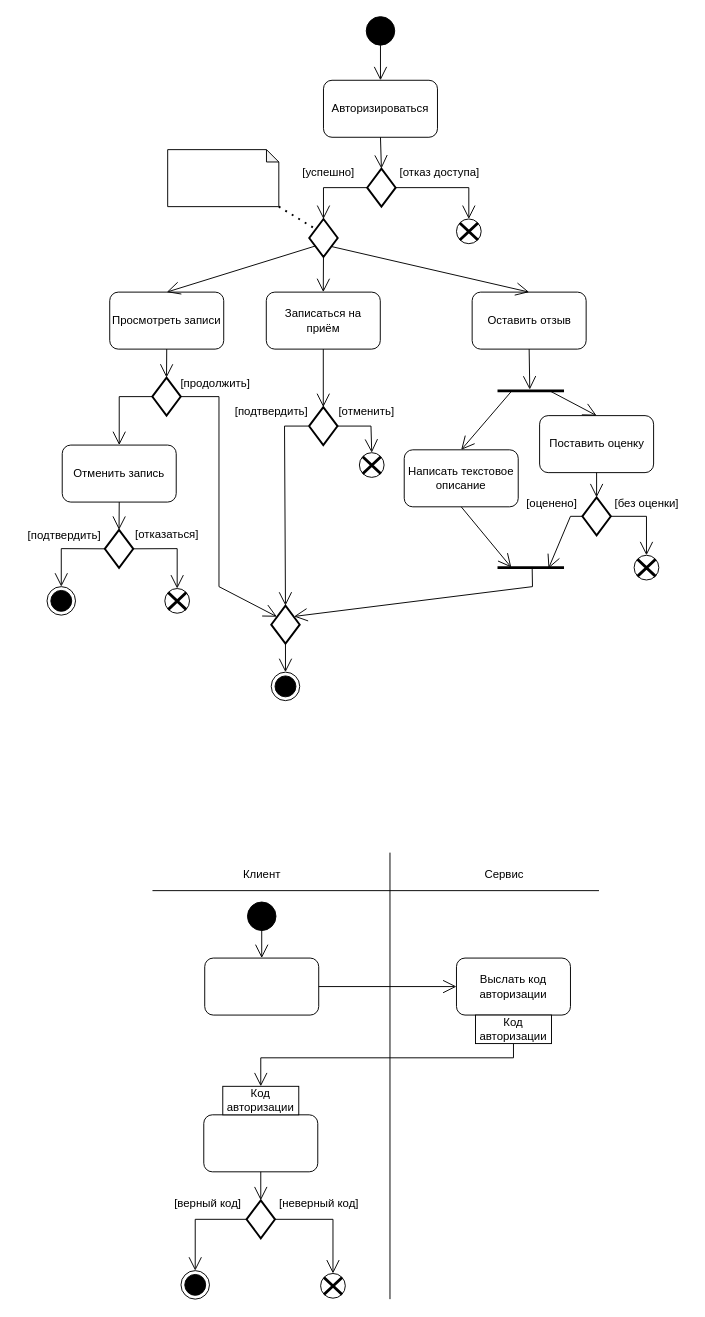
This 705x1317 diagram has some shape labels left out. The box of each missing label's shape, as (x1, y1, x2, y2) in pixels:
«decisionInput» Выбор возможных действий: (167, 149, 279, 207)
Ввести код авторизации: (203, 1114, 318, 1172)
Запросить код авторизации: (204, 957, 319, 1015)
